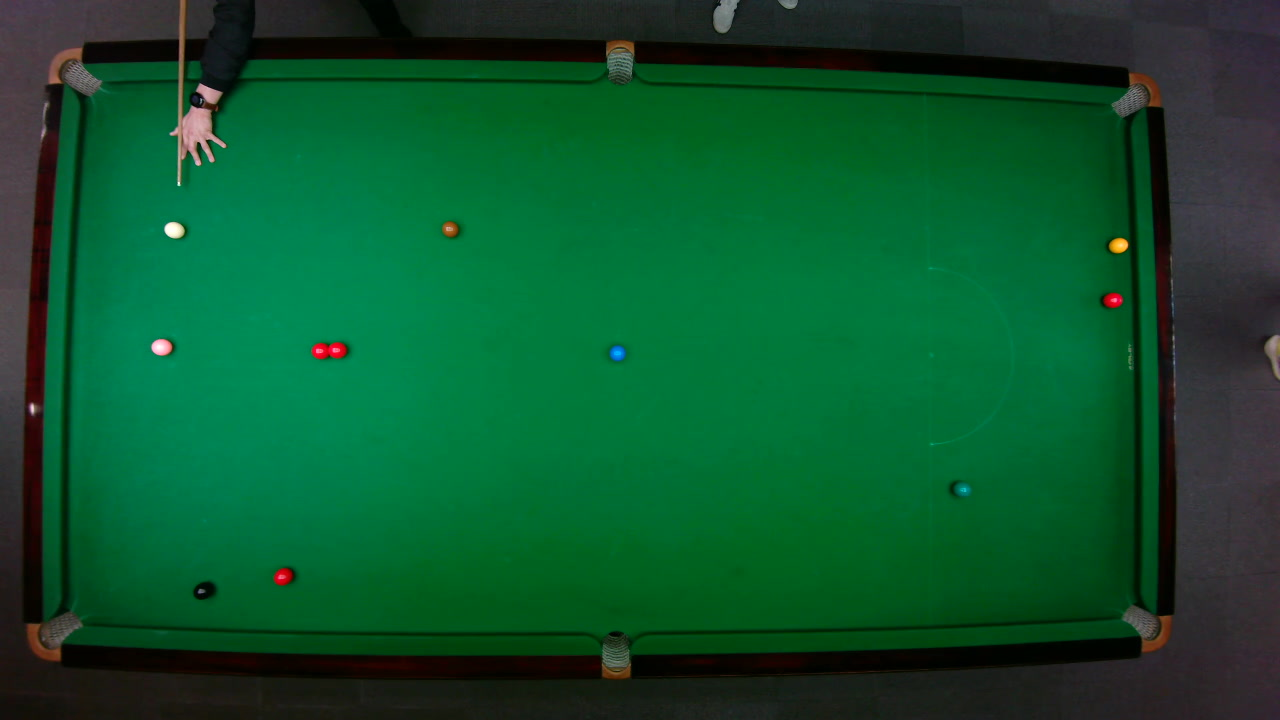bag: (25, 609, 83, 661), (45, 46, 102, 96), (1119, 603, 1172, 652), (1108, 71, 1161, 118), (600, 629, 630, 679), (605, 38, 633, 85)
black: (192, 581, 212, 600)
blue: (607, 343, 626, 361)
brown: (440, 220, 458, 237)
cue: (176, 2, 185, 186)
green: (951, 480, 972, 497)
pink: (149, 337, 173, 356)
red: (272, 566, 294, 585), (325, 340, 347, 359), (309, 341, 330, 360), (1101, 291, 1123, 308)
white: (162, 219, 186, 239)
yellow: (1107, 236, 1129, 253)
zone: (927, 266, 1013, 445)
